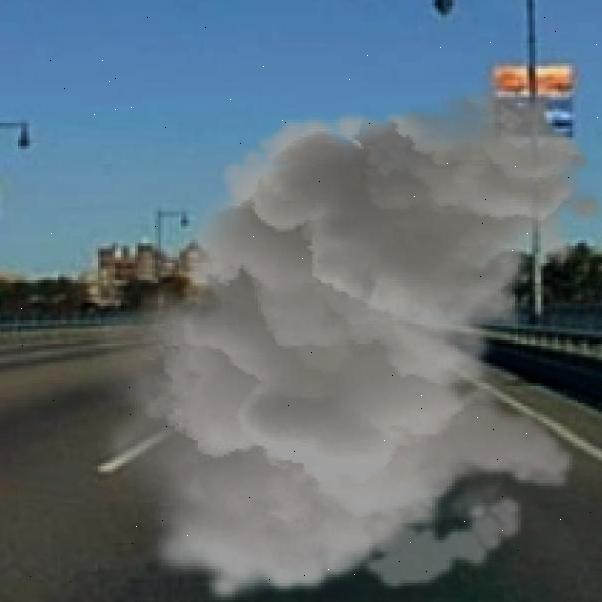smoke: (84, 86, 602, 602)
